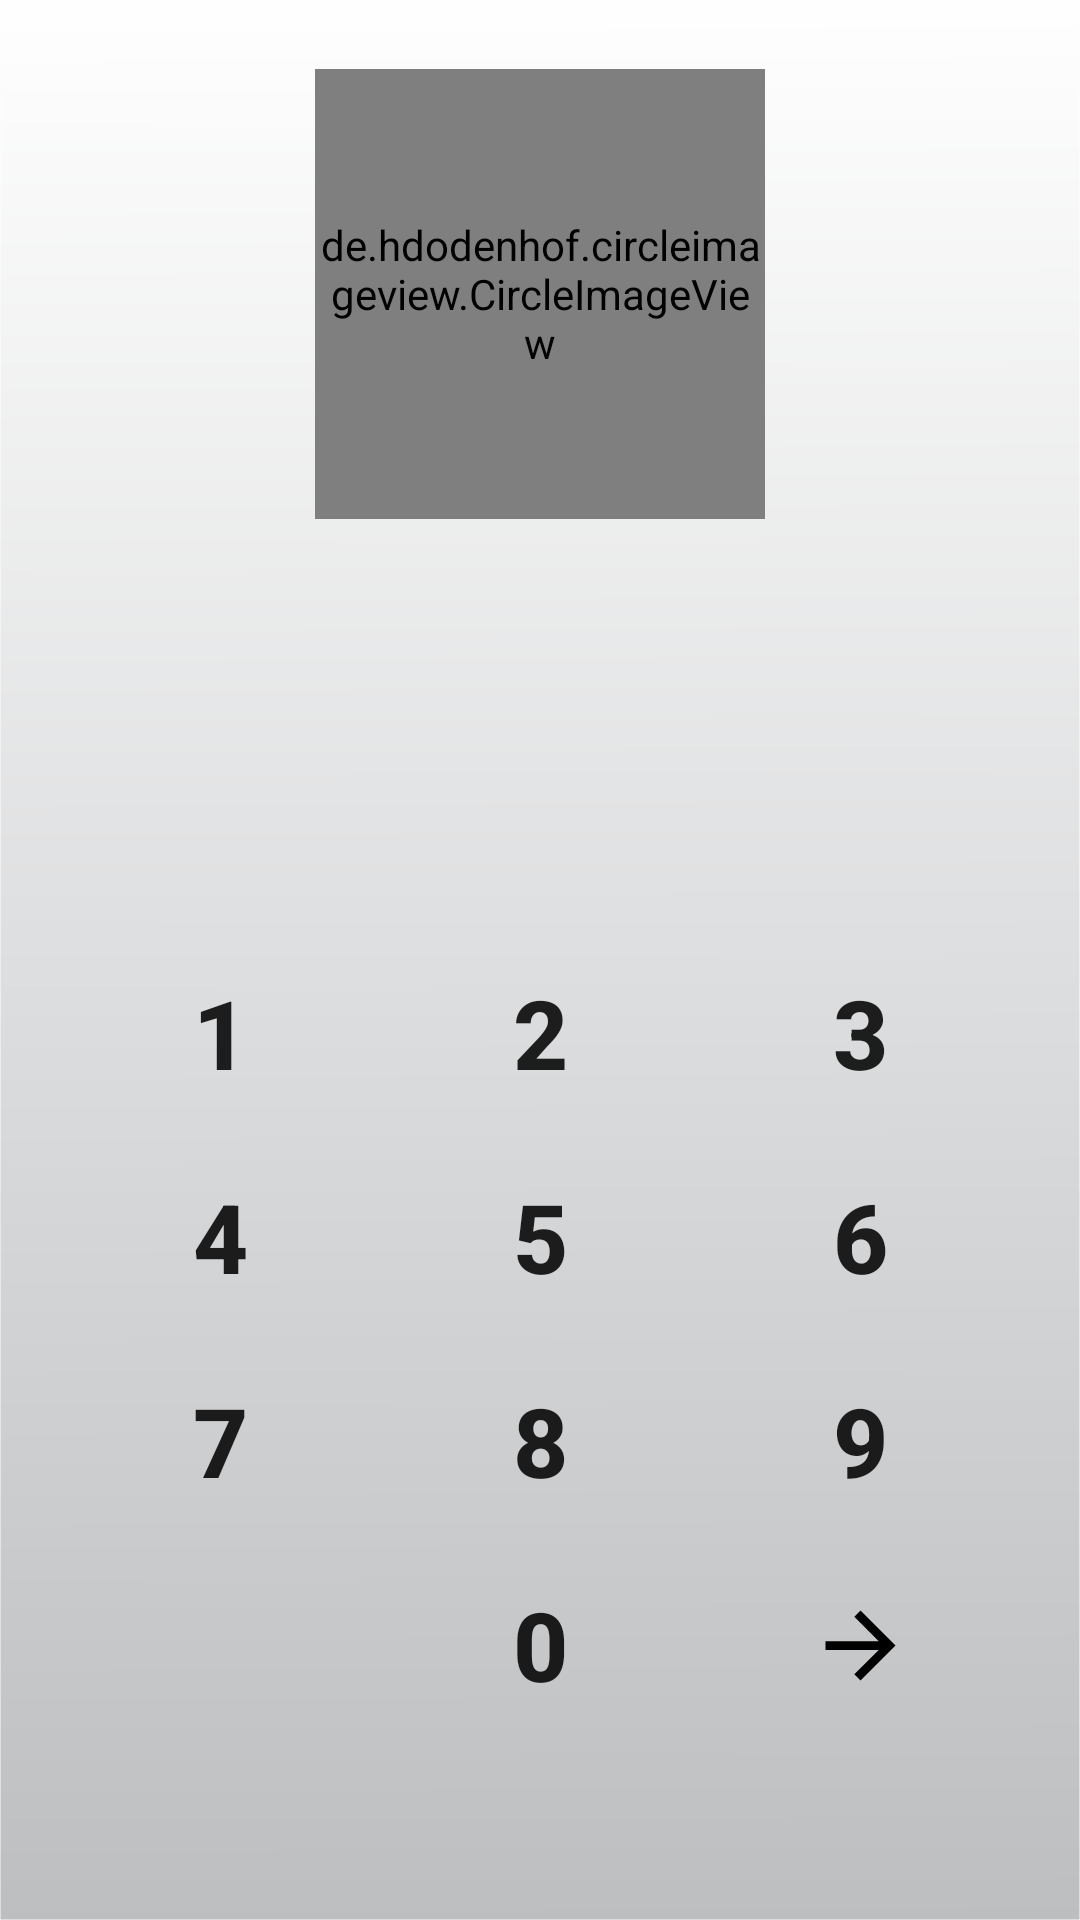

Icon click points for this 1080 x 1920 phone screenshot, format point (x, y):
enter arrow: point (860, 1645)
